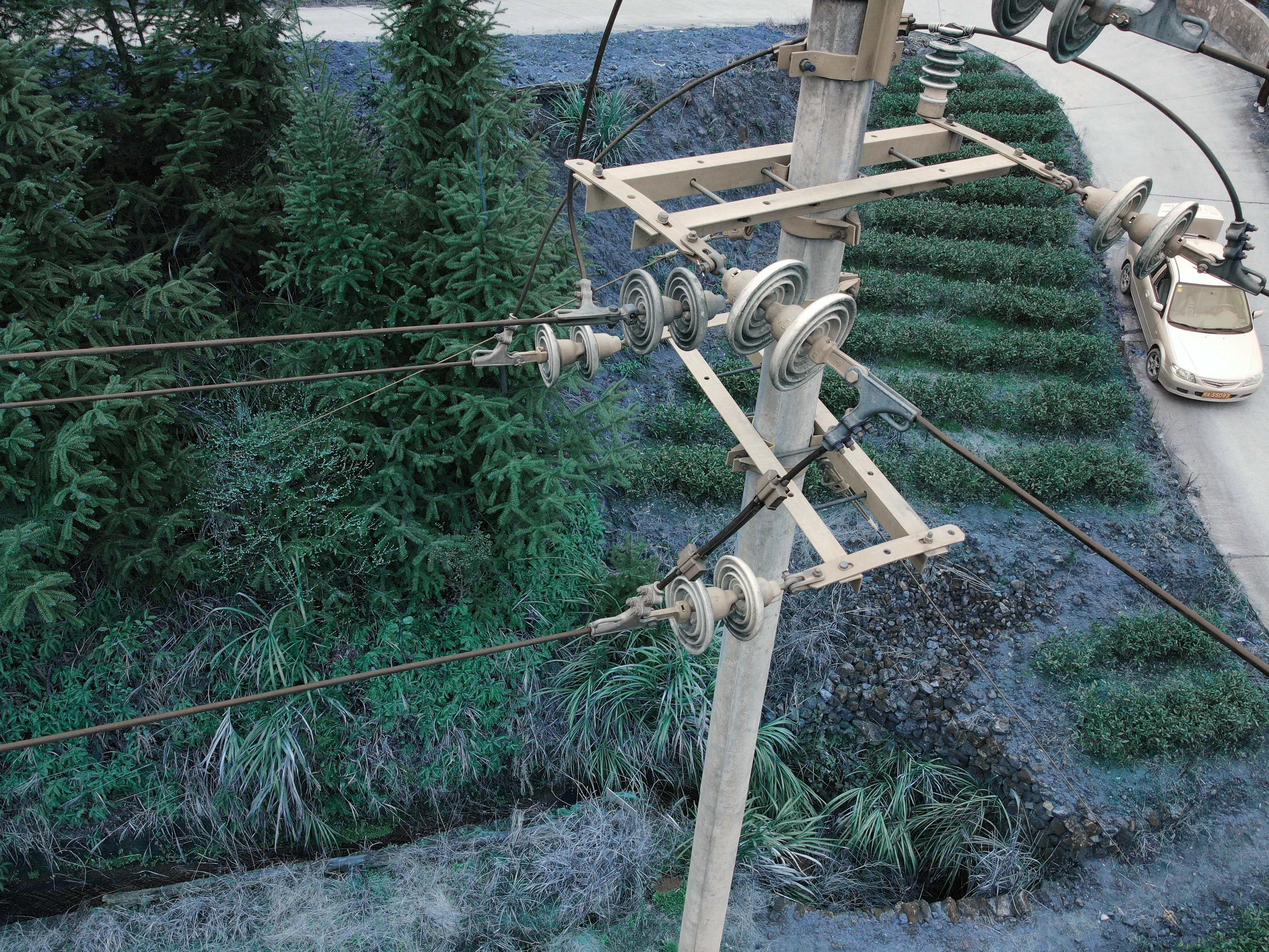severe_soiling_no_discharge_whole: (721, 250, 859, 394), (1080, 170, 1196, 282), (664, 554, 784, 657), (617, 264, 724, 359), (989, 4, 1112, 65), (914, 21, 971, 119), (533, 326, 622, 388)
